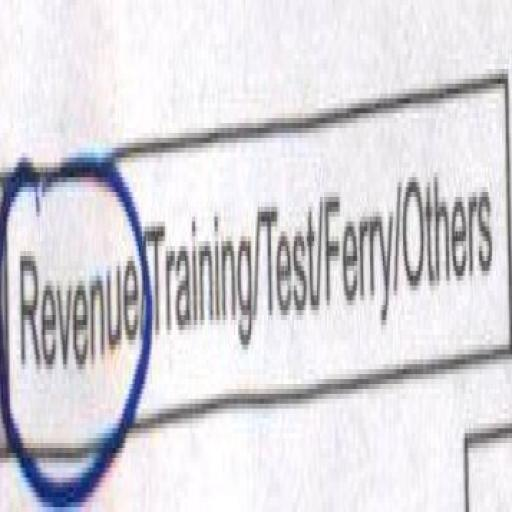check: (1, 113, 141, 512)
